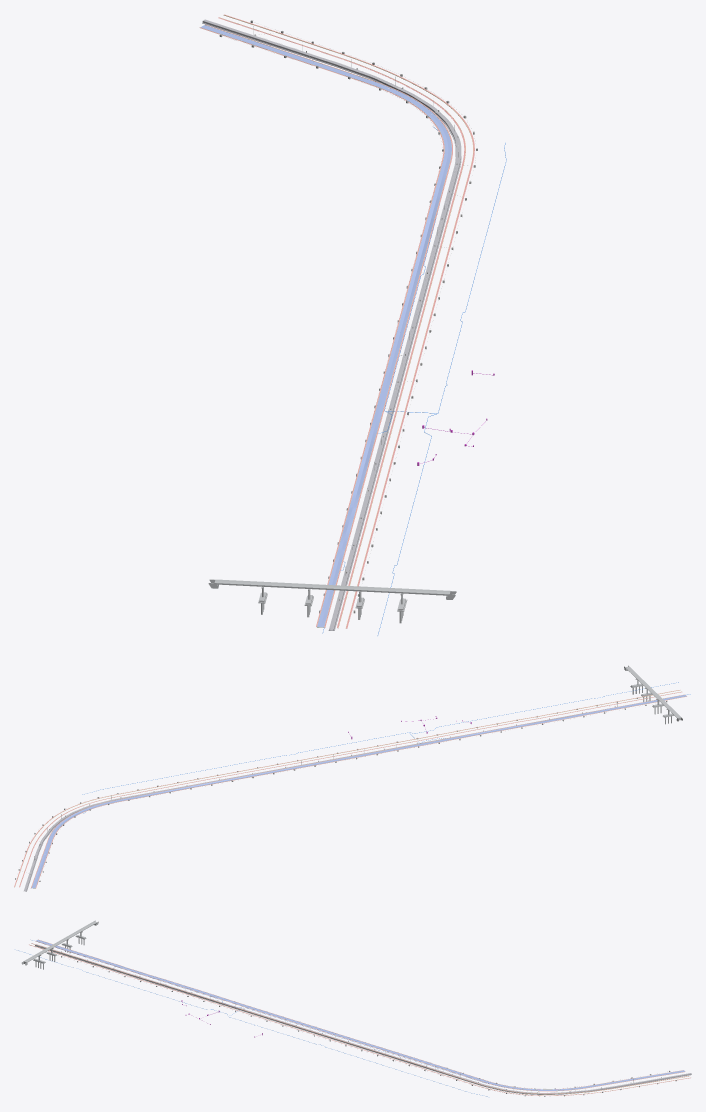
Rendered from corridor.glb.
The picture shows the model from 3 angles, top to bottom: view 1: azimuth 30°, elevation 25°; view 2: azimuth 150°, elevation 25°; view 3: azimuth 270°, elevation 25°; orthographic projection. The views are drawn at different scales.
Parts seen in each view (by area): view 1: Roadway (×3), BoxCulvert, Bridge; view 2: Roadway (×3), BoxCulvert, Bridge; view 3: Roadway (×3), BoxCulvert, Bridge.
Boxes of the visible parts, x1,y1,x2,y2 form: Roadway (×3): (199,14,474,628); BoxCulvert: (202,19,461,630); Bridge: (208,579,456,623); Roadway (×3): (14,690,686,888); BoxCulvert: (24,698,663,891); Bridge: (624,665,682,724); Roadway (×3): (29,939,690,1095); BoxCulvert: (35,944,691,1094); Bridge: (21,920,98,969).
Size of the model in its own units: 798 by 32.36 by 1356.
